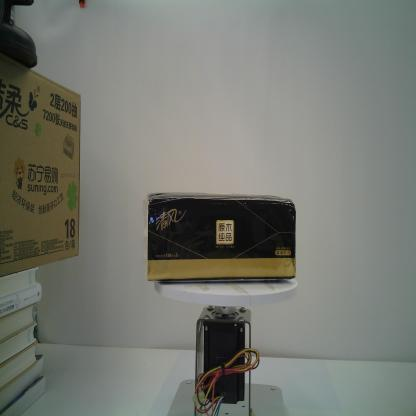Tissue: (144, 192, 296, 281)
